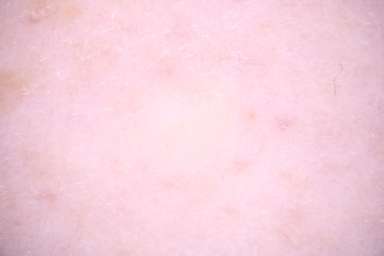nevus: (63, 37, 125, 95)
